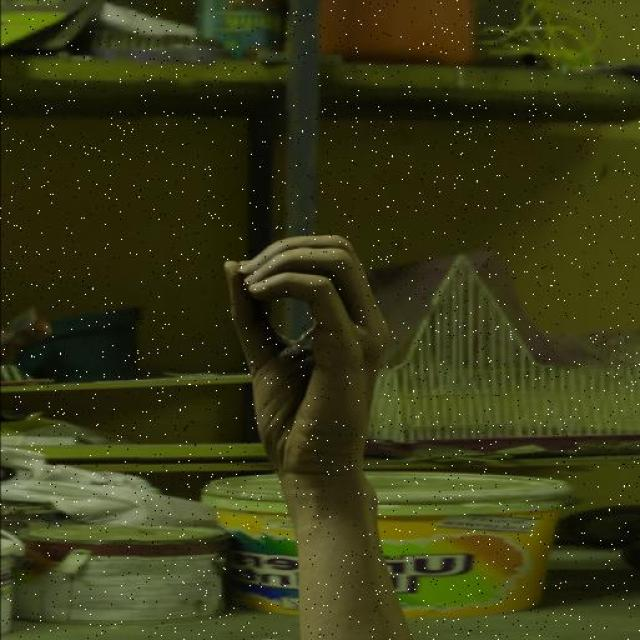O: (220, 229, 390, 476)
